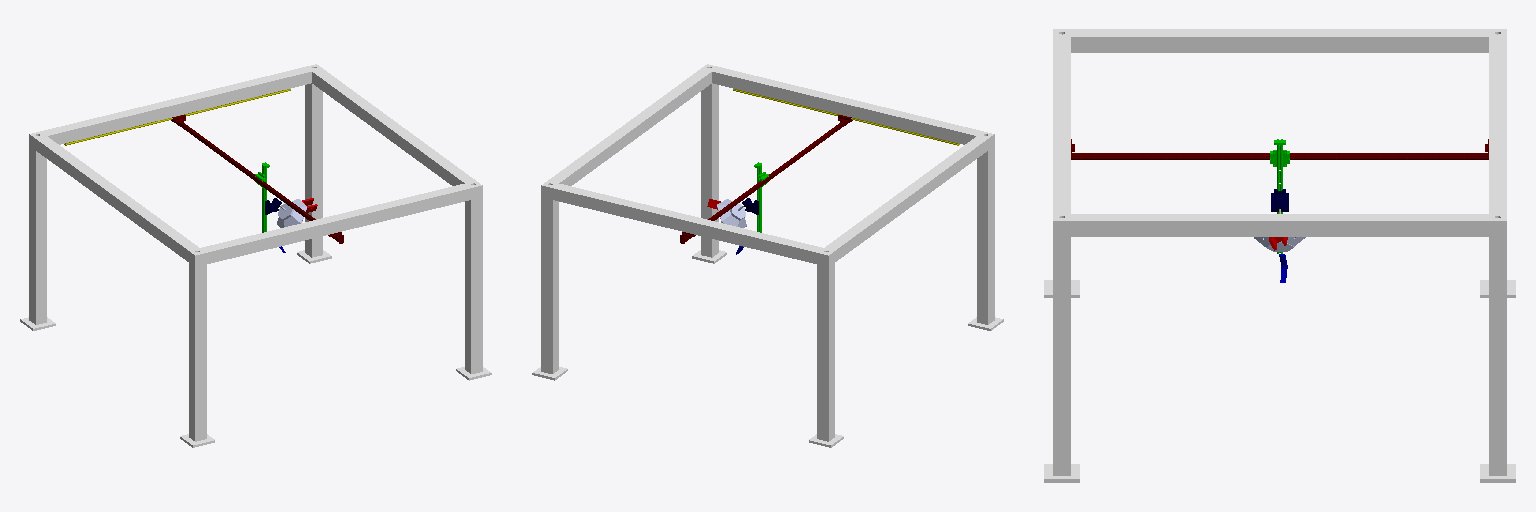
--- What the picture shows (computed from the rendered views, not written in the file) ---
3 views of the same robot in one strip: view 1: azimuth 30°, elevation 25°; view 2: azimuth 150°, elevation 25°; view 3: azimuth 270°, elevation 25° (orthographic).
Model gantrybot with 21 links and 20 joints (7 revolute, 3 prismatic, 10 fixed), rooted at floor_link, posed joints at zero except 1 at the middle of their limits (turret_joint = 3.3).
Visible links, largest first — view 1: table_top, table_legs, y_link; view 2: table_top, table_legs, y_link; view 3: table_top, table_legs, y_link, z_link.
Boxes of the visible links, box(x1,y1,x2,y2) form: table_top: box(29, 64, 482, 266); table_legs: box(20, 83, 491, 447); y_link: box(171, 115, 343, 243); table_top: box(541, 64, 994, 266); table_legs: box(532, 83, 1003, 447); y_link: box(680, 115, 852, 243); table_top: box(1053, 29, 1506, 236); table_legs: box(1044, 237, 1515, 482); y_link: box(1071, 139, 1488, 159); z_link: box(1270, 139, 1289, 253).
Bounding box of the posed robot: 2.65 × 2.65 × 1.6 m (x, y, z).
14 mesh visuals loaded from 20 distinct referenced files (14 binary STL); not drawn: 6 (reference not matched to a file when rendering).

robot.urdf — gantrybot:
<?xml version="1.0"?>
<robot
  name="gantrybot">
  <link name="floor_link" />

  <joint name="floor_joint" type="fixed">
    <parent link="floor_link"/>
    <child link="x_link"/>
  </joint>

  <link
    name="x_link">
    <inertial>
      <origin
        xyz="1.07395039666407 -1.80893388435545 1.63199914732132"
        rpy="0 0 0" />
      <mass
        value="8.18083524943849" />
      <inertia
        ixx="11.8319731728866"
        ixy="1.2603454076832E-13"
        ixz="2.82950186081272E-08"
        iyy="0.000117490202905156"
        iyz="1.32836200778391E-11"
        izz="11.8318556826973" />
    </inertial>
    <visual>
      <origin
        xyz="0 0 0"
        rpy="0 0 0" />
      <geometry>
        <mesh
          filename="package://gantrybot_description/meshes/x_link.STL" />
      </geometry>
<!--
      <material
        name="">
        <color
          rgba="0.650980392156863 0.619607843137255 0.588235294117647 1" />
      </material>
-->
      <material name="yellow">
        <color rgba="0.80 0.80 0.00 1.00"/>
      </material>
    </visual>
    <collision>
      <origin
        xyz="0 0 0"
        rpy="0 0 0" />
      <geometry>
        <mesh
          filename="package://gantrybot_description/meshes/x_link.STL" />
      </geometry>
    </collision>
  </link>
  <link
    name="table_top">
    <inertial>
      <origin
        xyz="-6.66133814775094E-16 0.0499828613284043 0"
        rpy="0 0 0" />
      <mass
        value="767.911605237122" />
      <inertia
        ixx="0"
        ixy="0"
        ixz="0"
        iyy="0"
        iyz="0"
        izz="0" />
    </inertial>
    <visual>
      <origin
        xyz="0 0 0"
        rpy="0 0 0" />
      <geometry>
        <mesh
          filename="package://gantrybot_description/meshes/table_top.STL" />
      </geometry>
<!--
      <material
        name="">
        <color
          rgba="0.650980392156863 0.619607843137255 0.588235294117647 1" />
      </material>
-->
      <material name="lightgray">
        <color rgba="0.95 0.95 0.95 1.00"/>
      </material>
    </visual>
    <collision>
      <origin
        xyz="0 0 0"
        rpy="0 0 0" />
      <geometry>
        <mesh
          filename="package://gantrybot_description/meshes/table_top.STL" />
      </geometry>
    </collision>
  </link>
  <joint
    name="base_joint"
    type="fixed">
    <origin
      xyz="1.073951980437 -1.80893388360599 1.64557591968713"
      rpy="1.5707963267949 0 0" />
    <parent
      link="x_link" />
    <child
      link="table_top" />
    <axis
      xyz="0 0 0" />
  </joint>
  <link
    name="table_legs">
    <inertial>
      <origin
        xyz="-1.225 0.720829799446293 -1.225"
        rpy="0 0 0" />
      <mass
        value="489.382099322089" />
      <inertia
        ixx="734.37901279521"
        ixy="-1.26217744835362E-29"
        ixz="-1.4210854715202E-13"
        iyy="1468.75802559042"
        iyz="6.31088724176809E-30"
        izz="734.37901279521" />
    </inertial>
    <visual>
      <origin
        xyz="0 0 0"
        rpy="0 0 0" />
      <geometry>
        <mesh
          filename="package://gantrybot_description/meshes/table_legs.STL" />
      </geometry>
<!--
      <material
        name="">
        <color

          rgba="0.650980392156863 0.619607843137255 0.588235294117647 1" />
      </material>
-->
      <material name="lightgray">
        <color rgba="0.95 0.95 0.95 1.00"/>
      </material>
    </visual>
    <collision>
      <origin
        xyz="0 0 0"
        rpy="0 0 0" />
      <geometry>
        <mesh
          filename="package://gantrybot_description/meshes/table_legs.STL" />
      </geometry>
    </collision>
  </link>
  <joint
    name="table_joints"
    type="fixed">
    <origin
      xyz="1.225 -1.5 1.225"
      rpy="0 0 0" />
    <parent
      link="table_top" />
    <child
      link="table_legs" />
    <axis
      xyz="0 0 0" />
  </joint>
  <link
    name="y_link">
    <inertial>
      <origin
        xyz="-1.20259645018806 -0.0703068732520886 -0.0747160964223756"
        rpy="0 0 0" />
      <mass
        value="7.19114457071059" />
      <inertia
        ixx="0.00599123194356699"
        ixy="-1.30107246835293E-06"
        ixz="-6.896124802383E-07"
        iyy="3.05087919369185"
        iyz="-0.0016092783627855"
        izz="3.05146644876451" />
    </inertial>
    <visual>
      <origin
        xyz="0 0 0"
        rpy="0 0 0" />
      <geometry>
        <mesh
          filename="package://gantrybot_description/meshes/y_link.STL" />
      </geometry>
<!--
      <material
        name="">
        <color
          rgba="0.898039215686275 0.917647058823529 0.929411764705882 1" />
      </material>
-->
      <material name="lightred">
        <color rgba="0.40 0.00 0.00 1.00"/>
      </material>
    </visual>
    <collision>
      <origin
        xyz="0 0 0"
        rpy="0 0 0" />
      <geometry>
        <mesh
          filename="package://gantrybot_description/meshes/y_link.STL" />
      </geometry>
    </collision>
  </link>
  <joint
    name="x_joint"
    type="prismatic">
    <origin
      xyz="1.0192 -3.0115 1.6453"
      rpy="1.5708 -6.123E-17 -1.5708" />
    <parent
      link="x_link" />
    <child
      link="y_link" />
    <axis
      xyz="0 0 -1" />
    <limit
      lower="-0.95"
      upper="0.95"
      effort="0"
      velocity="0" />
    <dynamics
      damping="7.4"
      friction="0.17" />
  </joint>
  <link
    name="z_link">
    <inertial>
      <origin
        xyz="0.122778044807998 0.0533913349681556 -0.054800004862896"
        rpy="0 0 0" />
      <mass
        value="2.46179968721014" />
      <inertia
        ixx="0.00151834009864718"
        ixy="-0.00206455294459246"
        ixz="1.25683554286852E-09"
        iyy="0.0416221701850608"
        iyz="7.17858863550886E-11"
        izz="0.0413332416109357" />
    </inertial>
    <visual>
      <origin
        xyz="0 0 0"
        rpy="0 0 0" />
      <geometry>
        <mesh
          filename="package://gantrybot_description/meshes/z_link.STL" />
      </geometry>
<!--
      <material
        name="">
        <color
          rgba="0.650980392156863 0.619607843137255 0.588235294117647 1" />
      </material>
-->
      <material name="green">
        <color rgba="0.00 0.80 0.00 1.00"/>
      </material>
    </visual>
    <collision>
      <origin
        xyz="0 0 0"
        rpy="0 0 0" />
      <geometry>
        <mesh
          filename="package://gantrybot_description/meshes/z_link.STL" />
      </geometry>
    </collision>
  </link>
  <joint
    name="y_joint"
    type="prismatic">
    <origin
      xyz="-1.1478 -0.0815 -0.065989"
      rpy="-1.5708 0 -1.5708" />
    <parent
      link="y_link" />
    <child
      link="z_link" />
    <axis
      xyz="0 0 1" />
    <limit
      lower="-1.10"
      upper="1.10"
      effort="0"
      velocity="0" />
    <dynamics
      damping="7.4"
      friction="0.17" />
  </joint>
  <link
    name="turret_holder">
    <inertial>
      <origin
        xyz="3.96333412266969E-06 0.0778108067251946 0.0572968600316968"
        rpy="0 0 0" />
      <mass
        value="4.24406754870637" />
      <inertia
        ixx="0.0048594571627213"
        ixy="7.32979546251446E-07"
        ixz="5.88272980478283E-08"
        iyy="0.00109820294598619"
        iyz="0.000487022592695588"
        izz="0.00376125539273943" />
    </inertial>
    <visual>
      <origin
        xyz="0 0 0"
        rpy="0 0 0" />
      <geometry>
        <mesh
          filename="package://gantrybot_description/meshes/turret_holder.STL" />
      </geometry>
<!--
      <material

        name="">
        <color
          rgba="0.898039215686275 0.917647058823529 0.929411764705882 1" />
      </material>
-->
      <material name="lightblue">
        <color rgba="0.00 0.00 0.25 1.00"/>
      </material>
    </visual>
    <collision>
      <origin
        xyz="0 0 0"
        rpy="0 0 0" />
      <geometry>
        <mesh
          filename="package://gantrybot_description/meshes/turret_holder.STL" />
      </geometry>
    </collision>
  </link>
  <joint
    name="z_joint"
    type="prismatic">
    <origin
      xyz="0.18215 0.04825 -0.0548"
      rpy="0 1.5708 0" />
    <parent
      link="z_link" />
    <child
      link="turret_holder" />
    <axis
      xyz="0 0 -1" />
    <limit
      lower="-0.29"
      upper="0.25"
      effort="0"
      velocity="0" />
    <dynamics
      damping="7.4"
      friction="0.17" />
  </joint>
  <link
    name="turret_shaft">
    <inertial>
      <origin
        xyz="4.49187353979141E-11 5.53437295991444E-11 0.0509916693658987"
        rpy="0 0 0" />
      <mass
        value="0.0400345859887326" />
      <inertia
        ixx="0"
        ixy="0"
        ixz="0"
        iyy="0"
        iyz="0"
        izz="0" />
    </inertial>
    <visual>
      <origin
        xyz="0 0 0"
        rpy="0 0 0" />
      <geometry>
        <mesh
          filename="package://gantrybot_description/meshes/turret_shaft.STL" />
      </geometry>
      <material
        name="">
        <color
          rgba="0.776470588235294 0.756862745098039 0.737254901960784 1" />
      </material>
    </visual>
    <collision>
      <origin
        xyz="0 0 0"
        rpy="0 0 0" />
      <geometry>
        <mesh
          filename="package://gantrybot_description/meshes/turret_shaft.STL" />
      </geometry>
    </collision>
  </link>
  <joint
    name="turret_joint"
    type="revolute">
    <origin
      xyz="0 0.13794 0.060858"
      rpy="0.59522 0.54723 2.4864" />
    <parent
      link="turret_holder" />
    <child
      link="turret_shaft" />
    <axis
      xyz="0 0 -1" />
    <limit
      lower="0.15618"
      upper="6.43937"
      effort="0"
      velocity="0" />
    <dynamics
      friction="0.12" />
  </joint>
  <link
    name="turret_house1">
    <inertial>
      <origin
        xyz="-4.2668091282394E-12 5.57331958361829E-13 0.0595195433947271"
        rpy="0 0 0" />
      <mass
        value="0.344691292949324" />
      <inertia
        ixx="0"
        ixy="0"
        ixz="0"
        iyy="0"
        iyz="0"
        izz="0" />
    </inertial>
    <visual>
      <origin
        xyz="0 0 0"
        rpy="0 0 0" />
      <geometry>
        <mesh
          filename="package://gantrybot_description/meshes/turret_house1.STL" />
      </geometry>
      <material
        name="">
        <color
          rgba="0.792156862745098 0.819607843137255 0.933333333333333 1" />
      </material>
    </visual>
    <collision>
      <origin
        xyz="0 0 0"
        rpy="0 0 0" />
      <geometry>
        <mesh
          filename="package://gantrybot_description/meshes/turret_house1.STL" />
      </geometry>
    </collision>
  </link>
  <joint
    name="turret_shaft_fixed"
    type="fixed">
    <origin
      xyz="0 0 0.041756"
      rpy="1.1569E-15 6.5692E-16 -3.1408" />
    <parent
      link="turret_shaft" />
    <child
      link="turret_house1" />
    <axis
      xyz="0 0 0" />
  </joint>
  <link
    name="turret_house2">
    <inertial>
      <origin
        xyz="-8.88178419700125E-16 4.44089209850063E-16 0.0332432432432432"
        rpy="0 0 0" />
      <mass
        value="0.576772918920436" />
      <inertia
        ixx="0"
        ixy="0"
        ixz="0"
        iyy="0"
        iyz="0"
        izz="0" />
    </inertial>
    <visual>
      <origin
        xyz="0 0 0"
        rpy="0 0 0" />
      <geometry>
        <mesh
          filename="package://gantrybot_description/meshes/turret_house2.STL" />
      </geometry>
      <material
        name="">
        <color
          rgba="0.792156862745098 0.819607843137255 0.933333333333333 1" />
      </material>
    </visual>
    <collision>
      <origin
        xyz="0 0 0"
        rpy="0 0 0" />
      <geometry>
        <mesh
          filename="package://gantrybot_description/meshes/turret_house2.STL" />
      </geometry>
    </collision>
  </link>
  <joint
    name="h1_h2_fixed"
    type="fixed">
    <origin
      xyz="0 0 0.07"
      rpy="5.8392E-16 2.4767E-16 -2.0944" />
    <parent
      link="turret_house1" />
    <child
      link="turret_house2" />
    <axis
      xyz="0 0 0" />
  </joint>
  <link
    name="turret_house3">
    <inertial>
      <origin
        xyz="0 0 0.028542613906984"
        rpy="0 0 0" />
      <mass
        value="0.607545466364144" />
      <inertia
        ixx="0"
        ixy="0"
        ixz="0"
        iyy="0"
        iyz="0"
        izz="0" />
    </inertial>
    <visual>
      <origin
        xyz="0 0 0"
        rpy="0 0 0" />
      <geometry>
        <mesh
          filename="package://gantrybot_description/meshes/turret_house3.STL" />
      </geometry>
      <material
        name="">
        <color
          rgba="0.792156862745098 0.819607843137255 0.933333333333333 1" />
      </material>
    </visual>
    <collision>
      <origin
        xyz="0 0 0"
        rpy="0 0 0" />
      <geometry>
        <mesh
          filename="package://gantrybot_description/meshes/turret_house3.STL" />
      </geometry>
    </collision>
  </link>
  <joint
    name="h2_h3"
    type="fixed">
    <origin
      xyz="0 0 0.06"
      rpy="2.7062E-16 -5.4033E-16 -2.0944" />
    <parent
      link="turret_house2" />
    <child
      link="turret_house3" />
    <axis
      xyz="0 0 0" />
  </joint>
  <link
    name="gripper_1_motor">
    <inertial>
      <origin
        xyz="-2.95598434618682E-10 -3.24683330734654E-05 0.0229744903128875"
        rpy="0 0 0" />
      <mass
        value="1.03306527609508" />
      <inertia
        ixx="0"
        ixy="0"
        ixz="0"
        iyy="0"
        iyz="0"
        izz="0" />
    </inertial>
    <visual>
      <origin
        xyz="0 0 0"
        rpy="0 0 0" />
      <geometry>
        <mesh
          filename="package://gantrybot_description/meshes/gripper_1_motor.STL" />
      </geometry>
      <material
        name="">
        <color
          rgba="0.776470588235294 0.756862745098039 0.737254901960784 1" />
      </material>
    </visual>
    <collision>
      <origin
        xyz="0 0 0"
        rpy="0 0 0" />
      <geometry>
        <mesh
          filename="package://gantrybot_description/meshes/gripper_1_motor.STL" />
      </geometry>
    </collision>
  </link>
  <joint
    name="turret_motor_for_gripper_1"
    type="fixed">
    <origin
      xyz="0 0.035059 0.019941"
      rpy="1.1755E-16 -0.7854 -1.5708" />
    <parent
      link="turret_house2" />
    <child
      link="gripper_1_motor" />
    <axis
      xyz="0 0 0" />
  </joint>
  <link
    name="gripper_1_shaft">
    <inertial>
      <origin
        xyz="-1.3251943986603E-10 2.49104736838035E-10 0.0299113247893201"
        rpy="0 0 0" />
      <mass
        value="0.0234409428156239" />
      <inertia
        ixx="0"
        ixy="0"
        ixz="0"
        iyy="0"
        iyz="0"
        izz="0" />
    </inertial>
    <visual>
      <origin
        xyz="0 0 0"
        rpy="0 0 0" />
      <geometry>
        <mesh
          filename="package://gantrybot_description/meshes/gripper_1_shaft.STL" />
      </geometry>
      <material
        name="">
        <color
          rgba="0.776470588235294 0.756862745098039 0.737254901960784 1" />
      </material>
    </visual>
    <collision>
      <origin
        xyz="0 0 0"
        rpy="0 0 0" />
      <geometry>
        <mesh
          filename="package://gantrybot_description/meshes/gripper_1_shaft.STL" />
      </geometry>
    </collision>
  </link>
  <joint
    name="gripper_1_roll_joint"
    type="revolute">
    <origin
      xyz="0 0 0.045212"
      rpy="1.1102E-16 1.3878E-16 2.4329" />
    <parent
      link="gripper_1_motor" />
    <child
      link="gripper_1_shaft" />
    <axis
      xyz="0 0 1" />
    <limit
      lower="0"
      upper="6.2831"
      effort="0"
      velocity="0" />
    <dynamics
      friction="0.12" />
  </joint>
  <link
    name="gripper_1_top">
    <inertial>
      <origin
        xyz="1.63498263793249E-05 7.48816677109687E-06 0.0385430866367615"
        rpy="0 0 0" />
      <mass
        value="0.26775029336968" />
      <inertia
        ixx="0"
        ixy="0"
        ixz="0"
        iyy="0"
        iyz="0"
        izz="0" />
    </inertial>
    <visual>
      <origin
        xyz="0 0 0"
        rpy="0 0 0" />
      <geometry>
        <mesh
          filename="package://gantrybot_description/meshes/gripper_1_top.STL" />
      </geometry>
<!--
      <material
        name="">
        <color
          rgba="1 1 1 0.3" />
      </material>
-->
      <material name="red">
        <color rgba="0.80 0.00 0.00 1.00"/>
      </material>
    </visual>
    <collision>
      <origin
        xyz="0 0 0"
        rpy="0 0 0" />
      <geometry>
        <mesh
          filename="package://gantrybot_description/meshes/gripper_1_top.STL" />
      </geometry>
    </collision>
  </link>
  <joint
    name="g_1_shaft_fixed"
    type="fixed">
    <origin
      xyz="-1.8074E-05 0 0.058444"
      rpy="8.3267E-17 5.5511E-17 -0.42965" />
    <parent
      link="gripper_1_shaft" />
    <child
      link="gripper_1_top" />
    <axis
      xyz="0 0 0" />
  </joint>
<!--
  <link
    name="left_grip_gripper1">
-->
  <link
    name="gripper1_finger1">
    <inertial>
      <origin
        xyz="-0.0147119135939706 0.0768324471694968 0.0149999999999997"
        rpy="0 0 0" />
      <mass
        value="0.134162326535576" />
      <inertia
        ixx="0"
        ixy="0"
        ixz="0"
        iyy="0"
        iyz="0"
        izz="0" />
    </inertial>
    <visual>
      <origin
        xyz="0 0 0"
        rpy="0 0 0" />
      <geometry>
        <mesh
          filename="package://gantrybot_description/meshes/left_grip_gripper1.STL" />
      </geometry>
<!--
      <material
        name="">
        <color
          rgba="1 1 1 0.3" />
      </material>
-->
      <material name="red">
        <color rgba="0.80 0.00 0.00 1.00"/>
      </material>
    </visual>
    <collision>
      <origin
        xyz="0 0 0"
        rpy="0 0 0" />
      <geometry>
        <mesh
          filename="package://gantrybot_description/meshes/left_grip_gripper1.STL" />
      </geometry>
    </collision>
  </link>
<!--
    <joint
    name="left_hold_g1"
    type="revolute">
-->
  <joint
    name="grip1_finger1_joint"
    type="revolute">
    <origin
      xyz="-0.014984 0.015464 0.044985"
      rpy="1.5708 0.42592 1.5708" />
    <parent
      link="gripper_1_top" />
<!--    <child
      link="left_grip_gripper1" />
-->
    <child
      link="gripper1_finger1" />
    <axis
      xyz="0 0 -1" />
    <limit
      lower="0"
      upper="0.35"
      effort="0"
      velocity="0" />
    <dynamics
      friction="0.12" />
  </joint>
<!--
  <link
    name="right_grip_gripper1">
-->
  <link
    name="gripper1_finger2">
    <inertial>
      <origin
        xyz="-0.0147119135939708 0.0768324471694974 0.0149999999999999"
        rpy="0 0 0" />
      <mass
        value="0.134162326535576" />
      <inertia
        ixx="0"
        ixy="0"
        ixz="0"
        iyy="0"
        iyz="0"
        izz="0" />
    </inertial>
    <visual>
      <origin
        xyz="0 0 0"
        rpy="0 0 0" />
      <geometry>
        <mesh
          filename="package://gantrybot_description/meshes/right_grip_gripper1.STL" />
      </geometry>
<!--
      <material
        name="">
        <color
          rgba="1 1 1 0.3" />
      </material>
-->
      <material name="red">
        <color rgba="0.80 0.00 0.00 1.00"/>
      </material>
    </visual>
    <collision>
      <origin
        xyz="0 0 0"
        rpy="0 0 0" />
      <geometry>
        <mesh
          filename="package://gantrybot_description/meshes/right_grip_gripper1.STL" />
      </geometry>
    </collision>
  </link>
<!--
  <joint
    name="right_hold_g1" 
    type="revolute">
-->
  <joint
    name="grip1_finger2_joint"
    type="revolute">
    <origin
      xyz="0.015016 -0.015449 0.044985"
      rpy="1.5708 0.44489 -1.5708" />
    <parent
      link="gripper_1_top" />
    <child
      link="gripper1_finger2" />
    <axis
      xyz="0 0 -1" />
    <limit
      lower="0"
      upper="0.35"
      effort="0"
      velocity="0" />
    <dynamics
      friction="0.12" />
  </joint>
  <link
    name="gripper_2_motor">
    <inertial>
      <origin
        xyz="-2.95603097555386E-10 -3.24683330741316E-05 0.0229744903128892"
        rpy="0 0 0" />
      <mass
        value="1.03306527609533" />
      <inertia
        ixx="0"
        ixy="0"
        ixz="0"
        iyy="0"
        iyz="0"
        izz="0" />
    </inertial>
    <visual>
      <origin
        xyz="0 0 0"
        rpy="0 0 0" />
      <geometry>
        <mesh
          filename="package://gantrybot_description/meshes/gripper_2_motor.STL" />
      </geometry>
      <material
        name="">
        <color
          rgba="0.776470588235294 0.756862745098039 0.737254901960784 1" />
      </material>
    </visual>
    <collision>
      <origin
        xyz="0 0 0"
        rpy="0 0 0" />
      <geometry>
        <mesh
          filename="package://gantrybot_description/meshes/gripper_2_motor.STL" />
      </geometry>
    </collision>
  </link>
  <joint
    name="turret_motor_for_gripper_2"
    type="fixed">
    <origin
      xyz="0 -0.035059 0.019941"
      rpy="5.9087E-17 -0.7854 1.5708" />
    <parent
      link="turret_house2" />
    <child
      link="gripper_2_motor" />
    <axis
      xyz="0 0 0" />
  </joint>
  <link
    name="gripper_2_shaft">
    <inertial>
      <origin
        xyz="-1.32519328843728E-10 2.49105180927245E-10 0.0299113247893208"
        rpy="0 0 0" />
      <mass
        value="0.0234409428156264" />
      <inertia
        ixx="0"
        ixy="0"
        ixz="0"
        iyy="0"
        iyz="0"
        izz="0" />
    </inertial>
    <visual>
      <origin
        xyz="0 0 0"
        rpy="0 0 0" />
      <geometry>
        <mesh
          filename="package://gantrybot_description/meshes/gripper_2_shaft.STL" />
      </geometry>
      <material
        name="">
        <color
          rgba="0.776470588235294 0.756862745098039 0.737254901960784 1" />
      </material>
    </visual>
    <collision>
      <origin
        xyz="0 0 0"
        rpy="0 0 0" />
      <geometry>
        <mesh
          filename="package://gantrybot_description/meshes/gripper_2_shaft.STL" />
      </geometry>
    </collision>
  </link>
  <joint
    name="gripper_2_roll_joint"
    type="revolute">
    <origin
      xyz="0 0 0.045212"
      rpy="-1.5266E-16 7.494E-16 -0.92947" />
    <parent
      link="gripper_2_motor" />
    <child
      link="gripper_2_shaft" />
    <axis
      xyz="0 0 1" />
    <limit
      lower="0"
      upper="6.2831"
      effort="0"
      velocity="0" />
    <dynamics
      friction="0.12" />
  </joint>
  <link
    name="gripper_2_top">
    <inertial>
      <origin
        xyz="1.63498263787698E-05 7.48816677043074E-06 0.0385430866367613"
        rpy="0 0 0" />
      <mass
        value="0.267750293369682" />
      <inertia
        ixx="0"
        ixy="0"
        ixz="0"
        iyy="0"
        iyz="0"
        izz="0" />
    </inertial>
    <visual>
      <origin
        xyz="0 0 0"
        rpy="0 0 0" />
      <geometry>
        <mesh
          filename="package://gantrybot_description/meshes/gripper_2_top.STL" />
      </geometry>
<!--
      <material
        name="">
        <color
          rgba="1 1 1 0.3" />
      </material>
-->
      <material name="blue">
        <color rgba="0.00 0.00 0.80 1.00"/>
      </material>
    </visual>
    <collision>
      <origin
        xyz="0 0 0"
        rpy="0 0 0" />
      <geometry>
        <mesh
          filename="package://gantrybot_description/meshes/gripper_2_top.STL" />
      </geometry>
    </collision>
  </link>
  <joint
    name="g_2_shaft_fixed"
    type="fixed">
    <origin
      xyz="1.80744228721608E-05 0 0.0584439356480511"
      rpy="-2.70616862252382E-16 3.05311331771918E-16 2.71194290330157" />
    <parent
      link="gripper_2_shaft" />
    <child
      link="gripper_2_top" />
    <axis
      xyz="0 0 0" />
  </joint>
<!--
  <link
    name="left_grip_gripper2">
-->
  <link
    name="gripper2_finger1">
    <inertial>
      <origin
        xyz="-0.0147119135939707 0.0768324471694974 0.0149999999999999"
        rpy="0 0 0" />
      <mass
        value="0.134162326535577" />
      <inertia
        ixx="0"
        ixy="0"
        ixz="0"
        iyy="0"
        iyz="0"
        izz="0" />
    </inertial>
    <visual>
      <origin
        xyz="0 0 0"
        rpy="0 0 0" />
      <geometry>
        <mesh
          filename="package://gantrybot_description/meshes/left_grip_gripper2.STL" />
      </geometry>
<!--
      <material
        name="">
        <color
          rgba="1 1 1 0.3" />
      </material>
-->
      <material name="blue">
        <color rgba="0.00 0.00 0.80 1.00"/>
      </material>
    </visual>
    <collision>
      <origin
        xyz="0 0 0"
        rpy="0 0 0" />
      <geometry>
        <mesh
          filename="package://gantrybot_description/meshes/left_grip_gripper2.STL" />
      </geometry>
    </collision>
  </link>
<!--
    <joint
    name="left_hold_g2"
    type="revolute">
-->
  <joint
    name="grip2_finger1_joint"
    type="revolute">
    <origin
      xyz="-0.014984 0.015464 0.044985"
      rpy="1.5708 0.40745 1.5708" />
    <parent
      link="gripper_2_top" />
<!--
    <child
      link="left_grip_gripper2" />
-->
    <child
      link="gripper2_finger1" />
    <axis
      xyz="0 0 -1" />
    <limit
      lower="0"
      upper="0.35"
      effort="0"
      velocity="0" />
    <dynamics
      friction="0.12" />
  </joint>
<!--
  <link
    name="hold_grip_gripper2">
-->
  <link
    name="gripper2_finger2">
    <inertial>
      <origin
        xyz="-0.0147119135939708 0.0768324471694972 0.0150000000000001"
        rpy="0 0 0" />
      <mass
        value="0.134162326535576" />
      <inertia
        ixx="0"
        ixy="0"
        ixz="0"
        iyy="0"
        iyz="0"
        izz="0" />
    </inertial>
    <visual>
      <origin
        xyz="0 0 0"
        rpy="0 0 0" />
      <geometry>
        <mesh
          filename="package://gantrybot_description/meshes/hold_grip_gripper2.STL" />
      </geometry>
<!--
      <material
        name="">
        <color
          rgba="1 1 1 0.3" />
      </material>
-->
      <material name="blue">
        <color rgba="0.00 0.00 0.80 1.00"/>
      </material>
    </visual>
    <collision>
      <origin
        xyz="0 0 0"
        rpy="0 0 0" />
      <geometry>
        <mesh
          filename="package://gantrybot_description/meshes/hold_grip_gripper2.STL" />
      </geometry>
    </collision>
  </link>
<!--
  <joint
    name="right_hold_g2" 
    type="revolute">
-->
  <joint
    name="grip2_finger2_joint"
    type="revolute">
    <origin
      xyz="0.015016 -0.015449 0.044985"
      rpy="1.5708 0.47992 -1.5708" />
    <parent
      link="gripper_2_top" />
<!--
    <child
      link="hold_grip_gripper2" />
-->
    <child
      link="gripper2_finger2" />
    <axis
      xyz="0 0 -1" />
    <limit
      lower="0"
      upper="0.35"
      effort="0"
      velocity="0" />
    <dynamics
      friction="0.12" />
  </joint>

  <gazebo reference="table_top">
    <!-- <material>Gazebo/Yellow</material> -->
    <material>Gazebo/Bricks</material>
  </gazebo>

  <gazebo reference="table_legs">
    <!-- <material>Gazebo/Yellow</material> -->
    <material>Gazebo/Bricks</material>
  </gazebo>

  <gazebo reference="x_link">
    <material>Gazebo/Gold</material>
  </gazebo>

  <gazebo reference="y_link">
    <!--<material>Gazebo/Lane_1</material>-->
    <material>Gazebo/Gold</material>
  </gazebo>

  <gazebo reference="z_link">
    <material>Gazebo/Gold</material>
  </gazebo>

  <gazebo reference="turret_holder">
    <material>Gazebo/Grass</material>
  </gazebo>

  <gazebo reference="turret_shaft">
    <material>Gazebo/Grass</material>
  </gazebo>

  <gazebo reference="turret_house1">
    <material>Gazebo/Grass</material>
  </gazebo>

  <gazebo reference="turret_house2">
    <material>Gazebo/Grass</material>
  </gazebo>

  <gazebo reference="turret_house3">
    <material>Gazebo/Grass</material>
  </gazebo>

  <gazebo reference="gripper_1_top">
    <material>Gazebo/LightBlueLaser</material>
  </gazebo>

  <gazebo reference="gripper1_finger1">
    <material>Gazebo/LightBlueLaser</material>
  </gazebo>

  <gazebo reference="gripper1_finger2">
    <material>Gazebo/LightBlueLaser</material>
  </gazebo>

  <gazebo reference="gripper_2_top">
    <material>Gazebo/DarkYellow</material>
  </gazebo>

  <gazebo reference="gripper2_finger1">
    <material>Gazebo/DarkYellow</material>
  </gazebo>

  <gazebo reference="gripper2_finger2">
    <material>Gazebo/DarkYellow</material>
  </gazebo>

  <transmission name="X_trans">
    <type>transmission_interface/SimpleTransmission</type>
    <joint name="x_joint">
      <!-- Added <hardwareInterface> tag as work around to error - "No valid hardware interface element found in joint"
           Refer: https://answers.ros.org/question/186681/no-valid-hardware-interface-element-found-in-joint/ -->
      <hardwareInterface>hardware_interface/EffortJointInterface</hardwareInterface>
    </joint>
    <actuator name="X_Motor">
      <hardwareInterface>hardware_interface/EffortJointInterface</hardwareInterface>
      <mechanicalReduction>1</mechanicalReduction>
    </actuator>
  </transmission>

  <transmission name="Y_trans">
    <type>transmission_interface/SimpleTransmission</type>
    <joint name="y_joint">
      <!-- Added <hardwareInterface> tag as work around to error - "No valid hardware interface element found in joint"
           Refer: https://answers.ros.org/question/186681/no-valid-hardware-interface-element-found-in-joint/ -->
      <hardwareInterface>hardware_interface/EffortJointInterface</hardwareInterface>
    </joint>
    <actuator name="Y_Motor">
      <hardwareInterface>hardware_interface/EffortJointInterface</hardwareInterface>
      <mechanicalReduction>1</mechanicalReduction>
    </actuator>
  </transmission>

  <transmission name="Z_trans">
    <type>transmission_interface/SimpleTransmission</type>
    <joint name="z_joint">
      <!-- Added <hardwareInterface> tag as work around to error - "No valid hardware interface element found in joint"
           Refer: https://answers.ros.org/question/186681/no-valid-hardware-interface-element-found-in-joint/ -->
      <hardwareInterface>hardware_interface/EffortJointInterface</hardwareInterface>
    </joint>
    <actuator name="Z_Motor">
      <hardwareInterface>hardware_interface/EffortJointInterface</hardwareInterface>
      <mechanicalReduction>1</mechanicalReduction>
    </actuator>
  </transmission>

  <transmission name="Turret_trans">
    <type>transmission_interface/SimpleTransmission</type>
    <joint name="turret_joint">
      <!-- Added <hardwareInterface> tag as work around to error - "No valid hardware interface element found in joint"
           Refer: https://answers.ros.org/question/186681/no-valid-hardware-interface-element-found-in-joint/ -->
      <hardwareInterface>hardware_interface/EffortJointInterface</hardwareInterface>
    </joint>
    <actuator name="Turret_Motor">
      <hardwareInterface>hardware_interface/EffortJointInterface</hardwareInterface>
      <mechanicalReduction>1</mechanicalReduction>
    </actuator>
  </transmission>

  <transmission name="Gripper1_Roll_trans">
    <type>transmission_interface/SimpleTransmission</type>
    <joint name="gripper_1_roll_joint">
      <!-- Added <hardwareInterface> tag as work around to error - "No valid hardware interface element found in joint"
           Refer: https://answers.ros.org/question/186681/no-valid-hardware-interface-element-found-in-joint/ -->
      <hardwareInterface>hardware_interface/EffortJointInterface</hardwareInterface>
    </joint>
    <actuator name="Grip1_Roll_Motor">
      <hardwareInterface>hardware_interface/EffortJointInterface</hardwareInterface>
      <mechanicalReduction>1</mechanicalReduction>
    </actuator>
  </transmission>

  <transmission name="Grip1_Finger1_trans">
    <type>transmission_interface/SimpleTransmission</type>
    <joint name="grip1_finger1_joint">
      <!-- Added <hardwareInterface> tag as work around to error - "No valid hardware interface element found in joint"
           Refer: https://answers.ros.org/question/186681/no-valid-hardware-interface-element-found-in-joint/ -->
      <hardwareInterface>hardware_interface/EffortJointInterface</hardwareInterface>
    </joint>
    <actuator name="Grip1_Finger1_Motor">
      <hardwareInterface>hardware_interface/EffortJointInterface</hardwareInterface>
      <mechanicalReduction>1</mechanicalReduction>
    </actuator>
  </transmission>

  <transmission name="Grip1_Finger2_trans">
    <type>transmission_interface/SimpleTransmission</type>
    <joint name="grip1_finger2_joint">
      <!-- Added <hardwareInterface> tag as work around to error - "No valid hardware interface element found in joint"
           Refer: https://answers.ros.org/question/186681/no-valid-hardware-interface-element-found-in-joint/ -->
      <hardwareInterface>hardware_interface/EffortJointInterface</hardwareInterface>
    </joint>
    <actuator name="Grip1_Finger1_Motor">
      <hardwareInterface>hardware_interface/EffortJointInterface</hardwareInterface>
      <mechanicalReduction>1</mechanicalReduction>
    </actuator>
  </transmission>

  <transmission name="Gripper2_Roll_trans">
    <type>transmission_interface/SimpleTransmission</type>
    <joint name="gripper_2_roll_joint">
      <!-- Added <hardwareInterface> tag as work around to error - "No valid hardware interface element found in joint"
           Refer: https://answers.ros.org/question/186681/no-valid-hardware-interface-element-found-in-joint/ -->
      <hardwareInterface>hardware_interface/EffortJointInterface</hardwareInterface>
    </joint>
    <actuator name="Grip1_Roll_Motor">
      <hardwareInterface>hardware_interface/EffortJointInterface</hardwareInterface>
      <mechanicalReduction>1</mechanicalReduction>
    </actuator>
  </transmission>

  <transmission name="Grip2_Finger1_trans">
    <type>transmission_interface/SimpleTransmission</type>
    <joint name="grip2_finger1_joint">
      <!-- Added <hardwareInterface> tag as work around to error - "No valid hardware interface element found in joint"
           Refer: https://answers.ros.org/question/186681/no-valid-hardware-interface-element-found-in-joint/ -->
      <hardwareInterface>hardware_interface/EffortJointInterface</hardwareInterface>
    </joint>
    <actuator name="Grip2_Finger1_Motor">
      <hardwareInterface>hardware_interface/EffortJointInterface</hardwareInterface>
      <mechanicalReduction>1</mechanicalReduction>
    </actuator>
  </transmission>

  <transmission name="Grip2_Finger2_trans">
    <type>transmission_interface/SimpleTransmission</type>
    <joint name="grip2_finger2_joint">
      <!-- Added <hardwareInterface> tag as work around to error - "No valid hardware interface element found in joint"
           Refer: https://answers.ros.org/question/186681/no-valid-hardware-interface-element-found-in-joint/ -->
      <hardwareInterface>hardware_interface/EffortJointInterface</hardwareInterface>
    </joint>
    <actuator name="Grip2_Finger1_Motor">
      <hardwareInterface>hardware_interface/EffortJointInterface</hardwareInterface>
      <mechanicalReduction>1</mechanicalReduction>
    </actuator>
  </transmission>

  <!-- ros_control plugin -->
  <gazebo>
    <plugin name="gazebo_ros_control" filename="libgazebo_ros_control.so">
      <robotNamespace>/gantrybot</robotNamespace>
      <robotSimType>gazebo_ros_control/DefaultRobotHWSim</robotSimType>
      <!-- Added <legacyModeNS> tag as work around to bug regarding the robotNamespace in default_robot_hw_sim.cpp (see #637)
           Refer: https://answers.ros.org/question/292444/gazebo_ros_control-plugin-gazeboroscontrolplugin-missing-legacymodens-defaultrobothwsim/ -->
      <legacyModeNS>true</legacyModeNS>
    </plugin>
  </gazebo>
</robot>
